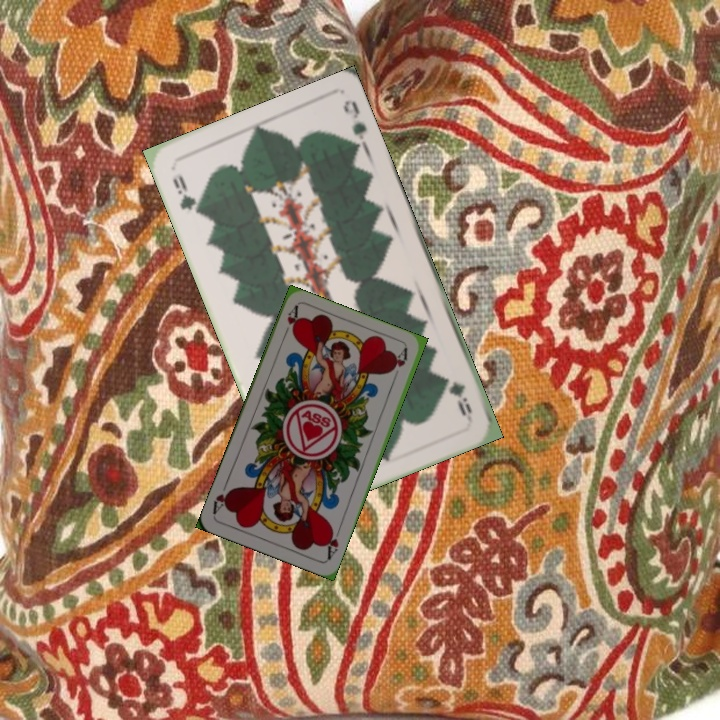G9: (168, 171, 204, 218), (446, 377, 475, 419)
HA: (322, 522, 344, 562), (279, 302, 301, 342)
